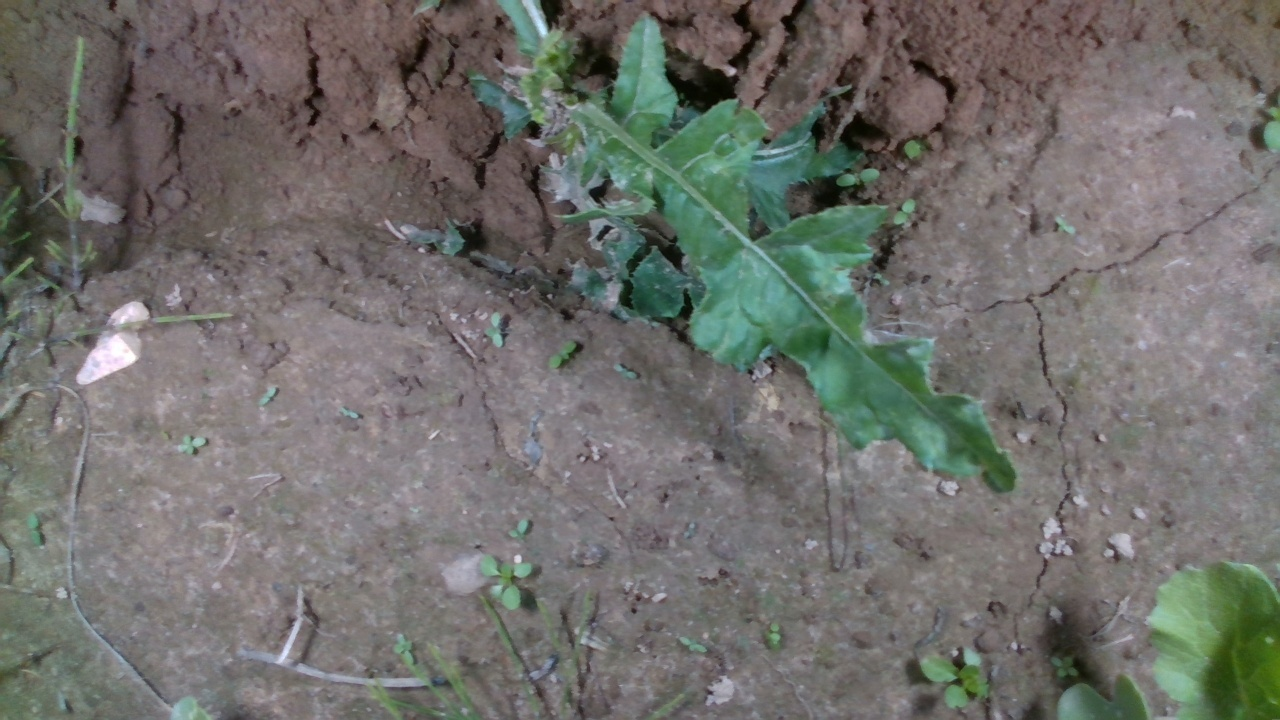weed: (547, 338, 577, 370), (481, 311, 504, 350), (1047, 654, 1081, 679), (176, 432, 208, 457), (26, 510, 44, 548), (677, 634, 709, 654), (1053, 214, 1078, 235), (259, 383, 280, 407), (508, 518, 530, 540), (612, 362, 638, 379), (767, 618, 781, 649)
